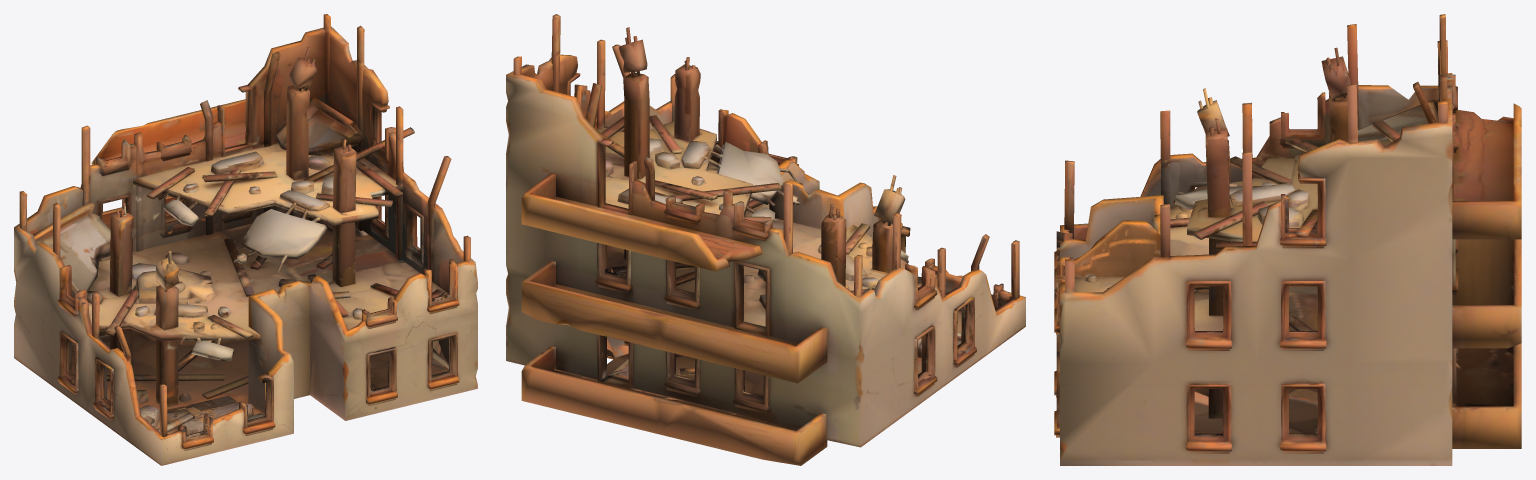
The model's file is broken_house_1.fbx.
3 views of the same model, side by side, from view 1: azimuth 30°, elevation 25°; view 2: azimuth 150°, elevation 25°; view 3: azimuth 270°, elevation 25° (orthographic). The views are drawn at different scales.
Parts seen in each view (by area): view 1: input; view 2: input; view 3: input.
Boxes of the visible parts, left/top/right/bottom form: input: left=14, top=14, right=477, bottom=465; input: left=506, top=14, right=1025, bottom=465; input: left=1054, top=14, right=1521, bottom=465.
Size of the model in its own units: 200 by 159 by 174.
Materials: 1 (1 with a texture image).
